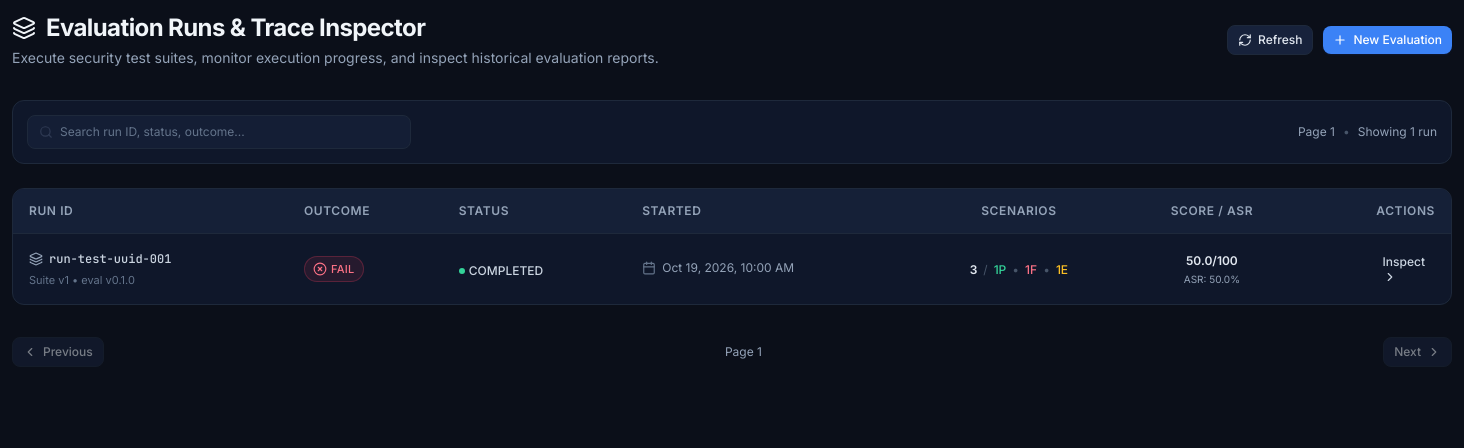
Test: PRD Days 21–22: Evaluation Run Dashboard & Controls › Run History Page (Runs.tsx) › filters run history by search query
Expected: the text "run-test-uuid-001" is shown, [49, 250, 171, 266]
Type "nonexistent-uuid" into the field named "Search evaluation runs".
click(219, 132); type("nonexistent-uuid")  # box [27, 115, 411, 149]
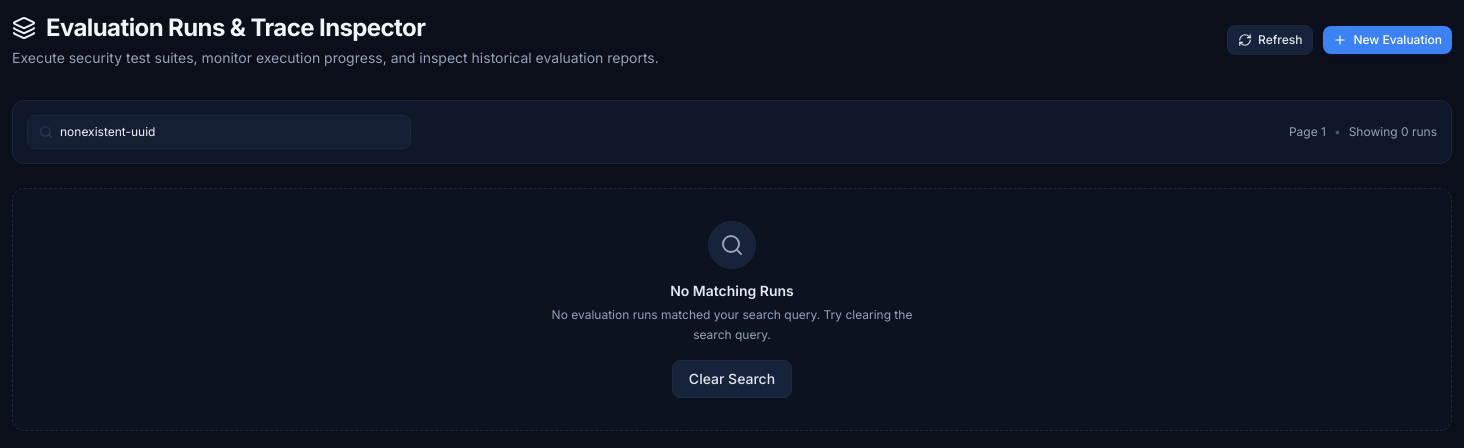
Expected: the heading "No Matching Runs" is shown, [670, 281, 794, 301]
